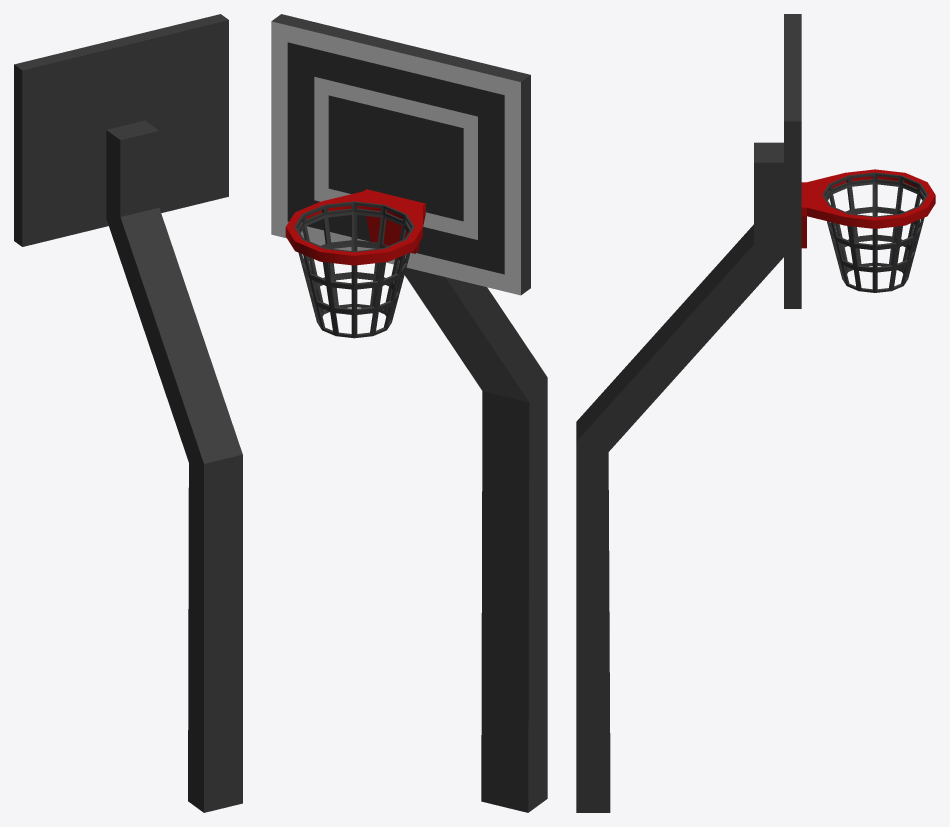
Rendered from Basketball_hoop.FBX.
The picture shows the model from 3 angles, left to right: view 1: azimuth 30°, elevation 25°; view 2: azimuth 150°, elevation 25°; view 3: azimuth 270°, elevation 25°; orthographic projection. The views are drawn at different scales.
Parts seen in each view (by area): view 1: BasketballHoop; view 2: BasketballHoop; view 3: BasketballHoop.
Part boxes in pixels (x1=…): BasketballHoop: x1=14, y1=14, x2=242, y2=812; BasketballHoop: x1=271, y1=14, x2=547, y2=812; BasketballHoop: x1=576, y1=14, x2=935, y2=812.
Size of the model in its own units: 15.38 by 49.17 by 21.78.
